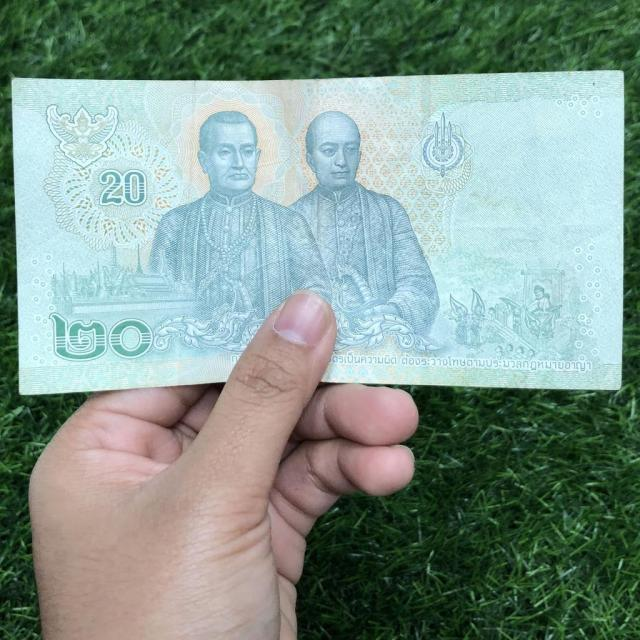THAI20: (10, 71, 628, 397)
